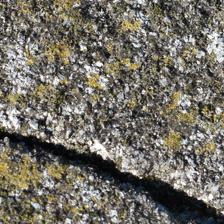Crack: (3, 62, 216, 157)
